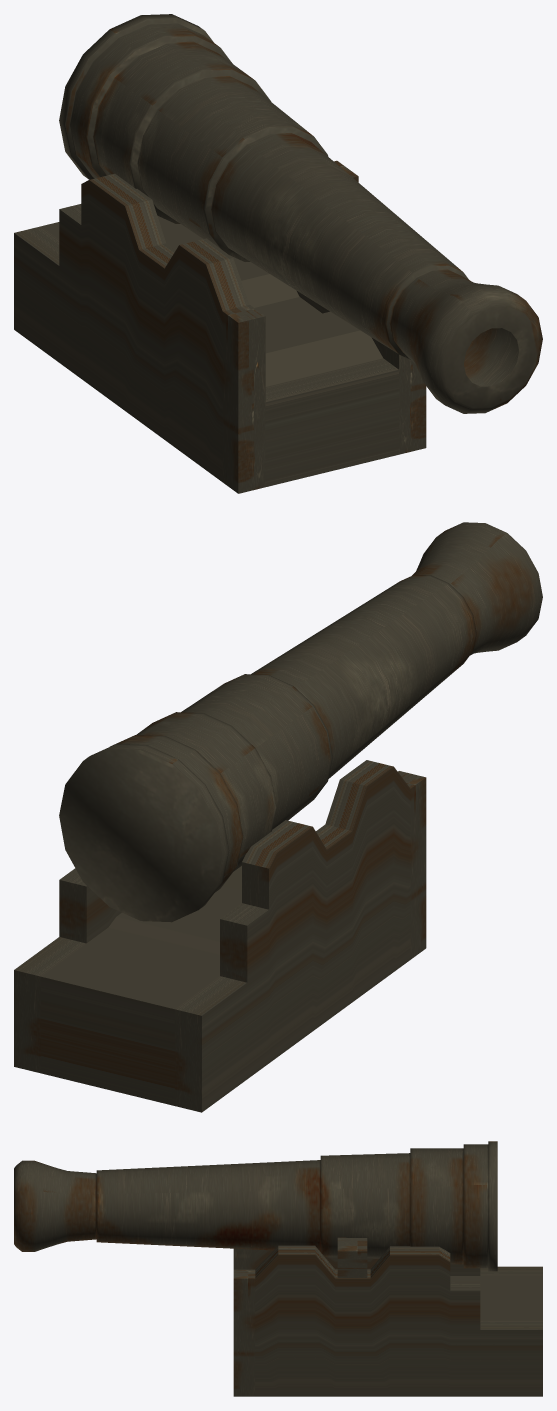
The model's file is Cannon.fbx.
3 views of the same model, one above another, from view 1: azimuth 30°, elevation 25°; view 2: azimuth 150°, elevation 25°; view 3: azimuth 270°, elevation 25° (orthographic). The views are drawn at different scales.
Visible parts, largest first — view 1: Base, Cannon; view 2: Base, Cannon; view 3: Cannon, Base.
Boxes of the visible parts, x1,y1,x2,y2 form: Base: (14, 173, 426, 493); Cannon: (59, 14, 542, 413); Base: (14, 760, 426, 1112); Cannon: (59, 522, 542, 922); Cannon: (14, 1141, 497, 1277); Base: (233, 1245, 542, 1396).
Size of the model in its own units: 60.77 by 93.61 by 206.
